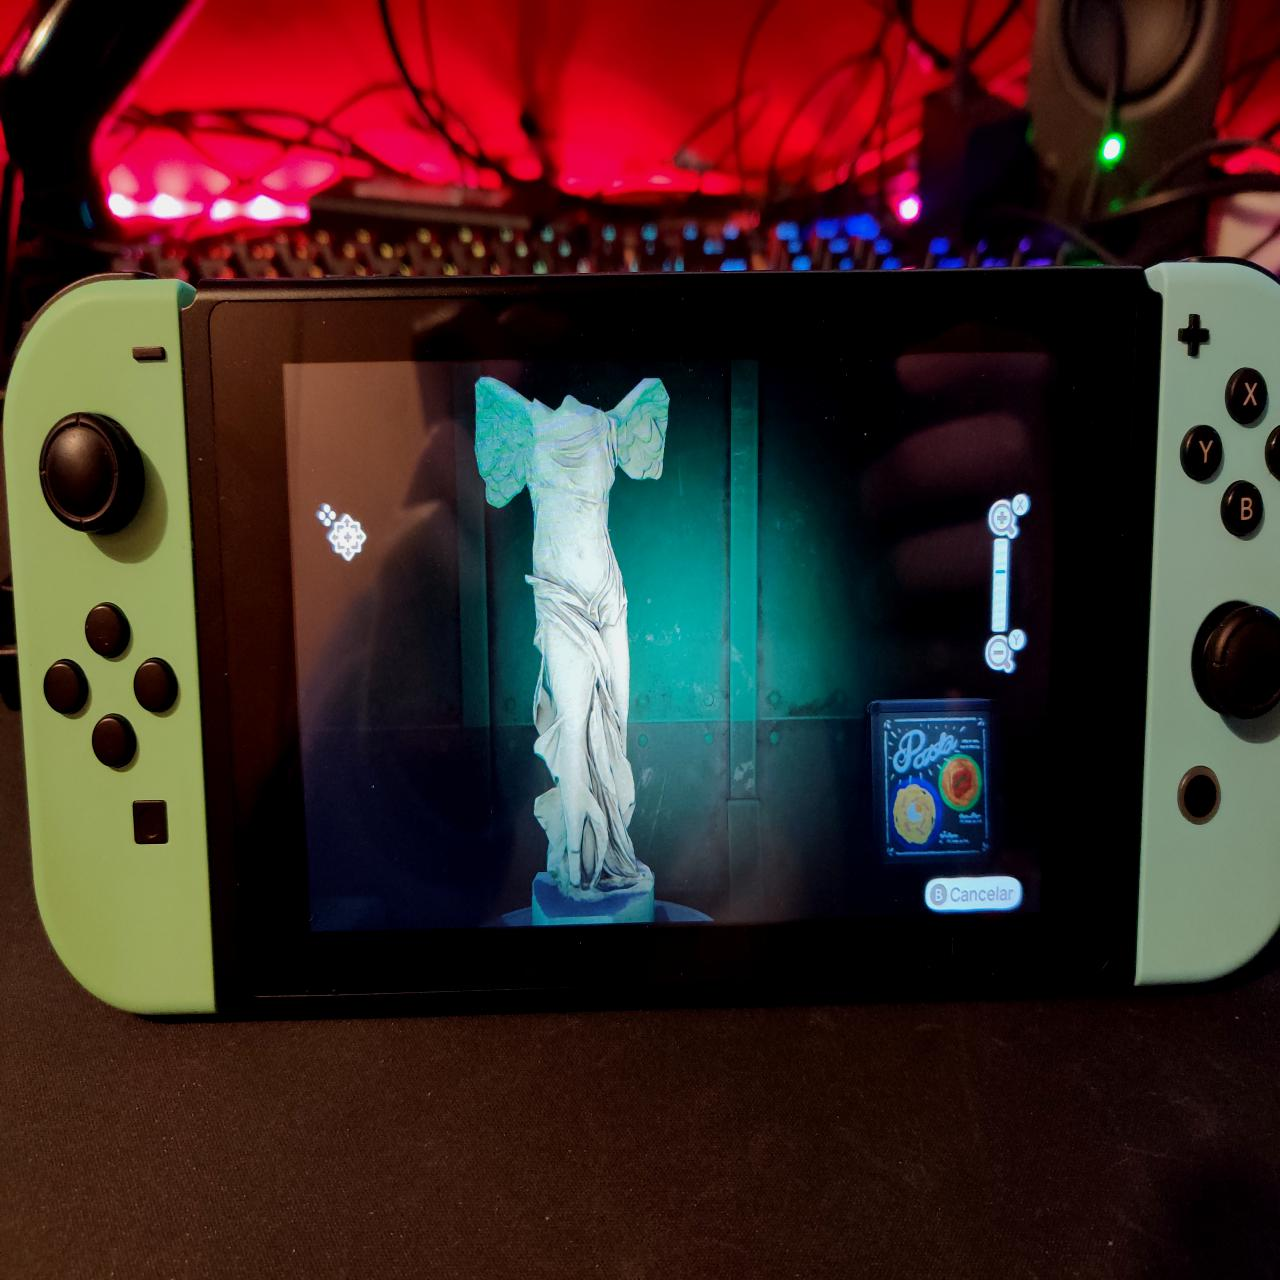Samothrace: (475, 375, 673, 913)
